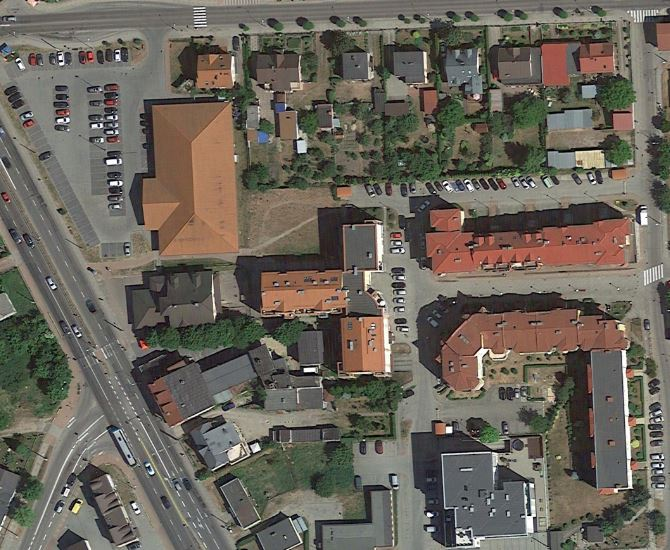block of flats: (433, 305, 638, 496), (251, 214, 400, 381), (422, 204, 637, 277), (437, 449, 539, 549)
family house: (126, 260, 226, 334), (146, 359, 217, 427), (441, 46, 485, 91), (253, 51, 303, 86), (494, 44, 536, 83), (576, 38, 618, 77), (194, 54, 238, 90), (389, 49, 430, 86), (339, 50, 377, 82)
garage: (313, 480, 403, 549), (544, 145, 639, 172), (217, 478, 263, 531), (201, 351, 254, 395), (256, 385, 330, 411), (265, 422, 343, 446), (544, 105, 597, 134), (271, 90, 299, 140), (611, 109, 637, 131)
shopping_center: (124, 99, 244, 257)
